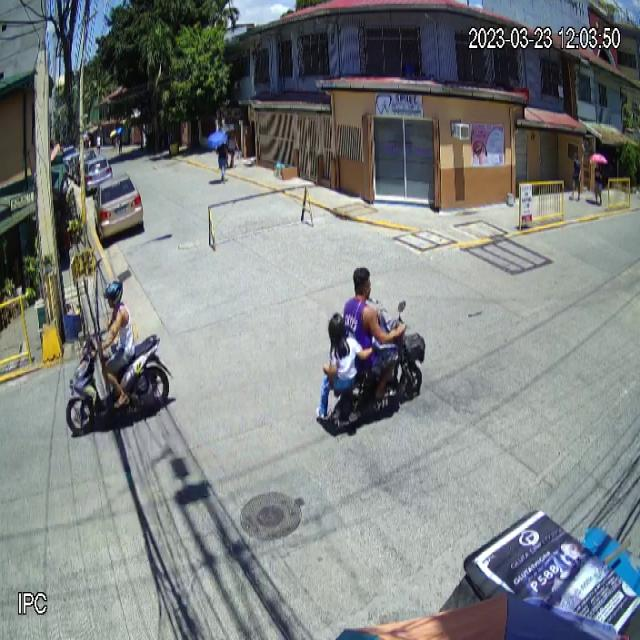Motorcycle: (327, 309, 427, 433), (59, 327, 169, 437)
